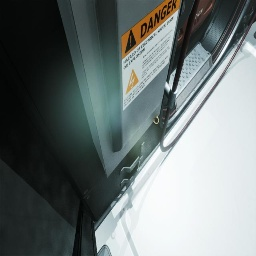SafetySwitchPanel ,: (56, 0, 195, 178)
